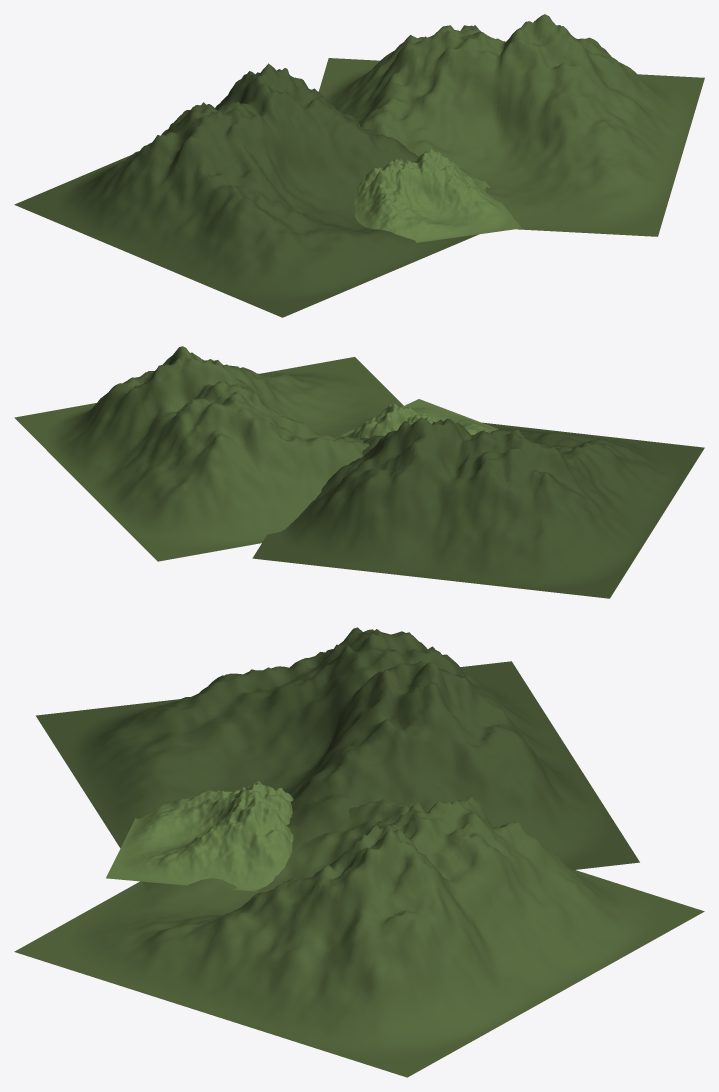
File: MOUNT.fbx
3 renders of one model, top to bottom at view 1: azimuth 30°, elevation 25°; view 2: azimuth 150°, elevation 25°; view 3: azimuth 270°, elevation 25°, orthographic. The views are drawn at different scales.
Visible parts, largest first — view 1: Landscape.001, Landscape.002, Landscape; view 2: Landscape.001, Landscape.002, Landscape; view 3: Landscape.002, Landscape.001, Landscape.
Boxes of the visible parts, bbox=[...] form: Landscape.001: bbox=[14, 63, 515, 317]; Landscape.002: bbox=[318, 14, 704, 236]; Landscape: bbox=[354, 149, 521, 242]; Landscape.001: bbox=[252, 417, 704, 598]; Landscape.002: bbox=[14, 346, 403, 561]; Landscape: bbox=[341, 399, 498, 438]; Landscape.002: bbox=[14, 797, 704, 1077]; Landscape.001: bbox=[36, 627, 639, 891]; Landscape: bbox=[106, 781, 293, 891].
Size of the model in its own units: 109446 by 17934 by 77364.
